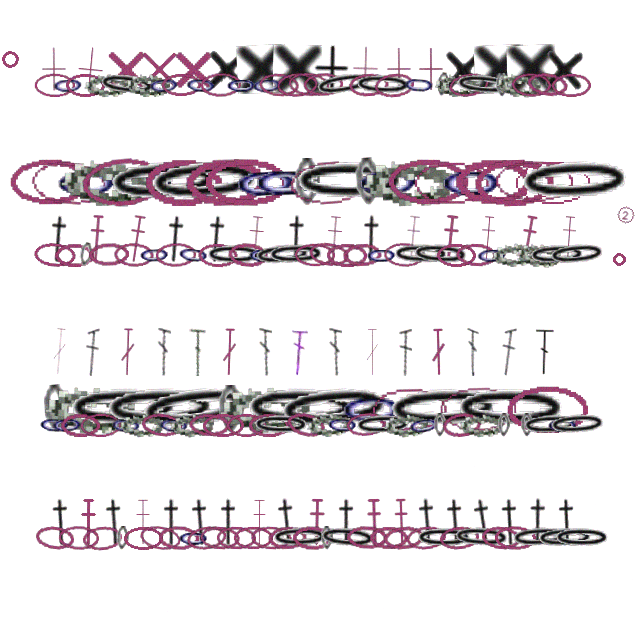chain: (134, 378, 258, 440), (273, 380, 396, 438), (144, 154, 266, 210), (103, 155, 225, 209), (514, 155, 636, 208), (383, 383, 504, 435), (100, 383, 221, 434), (64, 384, 184, 433), (241, 384, 361, 433), (290, 158, 410, 206), (451, 385, 571, 433), (80, 154, 167, 209), (285, 155, 370, 209), (26, 155, 110, 209), (61, 157, 151, 207), (363, 157, 453, 207), (45, 384, 135, 434), (220, 384, 310, 434), (473, 157, 556, 207), (204, 157, 288, 206), (492, 157, 575, 206), (184, 157, 266, 206), (387, 158, 470, 206), (368, 384, 449, 433), (437, 384, 518, 433), (512, 158, 594, 206), (506, 385, 588, 433), (9, 158, 90, 206), (410, 158, 491, 206), (144, 158, 224, 206), (454, 158, 534, 206), (231, 156, 301, 208), (354, 156, 423, 207), (53, 157, 121, 207), (338, 384, 406, 433), (252, 157, 319, 206), (111, 158, 178, 206), (438, 158, 505, 206), (312, 68, 375, 101), (96, 70, 158, 100), (546, 240, 608, 269), (453, 71, 514, 99), (252, 241, 313, 269), (317, 524, 378, 552), (410, 241, 471, 268), (547, 411, 608, 438), (451, 524, 512, 551), (509, 524, 570, 551), (520, 412, 581, 438), (353, 72, 413, 98), (527, 242, 587, 268), (353, 412, 413, 438), (535, 525, 595, 551), (266, 242, 326, 267), (391, 242, 451, 267), (270, 525, 330, 550), (204, 243, 264, 267), (251, 413, 311, 437), (414, 526, 474, 550), (552, 526, 612, 550), (284, 409, 328, 441), (354, 157, 382, 206), (42, 384, 70, 433), (491, 240, 537, 269), (306, 410, 352, 439), (447, 70, 491, 100), (138, 523, 182, 553), (185, 523, 228, 553), (169, 411, 215, 439), (383, 411, 429, 439), (525, 70, 569, 99), (307, 240, 351, 269), (218, 385, 244, 433), (441, 410, 483, 439), (373, 71, 416, 99), (140, 411, 183, 439), (81, 524, 124, 552), (382, 524, 425, 552), (438, 524, 481, 552), (295, 158, 320, 206), (34, 524, 76, 552), (405, 524, 447, 552), (480, 524, 522, 552), (84, 72, 129, 98), (496, 72, 541, 98), (516, 242, 561, 268), (119, 412, 164, 438), (459, 412, 504, 438), (287, 71, 330, 98), (33, 241, 76, 268), (276, 71, 318, 98), (345, 411, 387, 438), (227, 241, 268, 268), (258, 72, 300, 98), (348, 72, 390, 98), (197, 242, 239, 268), (455, 242, 497, 268), (188, 412, 230, 438), (250, 525, 292, 551), (383, 242, 426, 267), (342, 242, 383, 268), (199, 525, 240, 551), (267, 525, 308, 551), (126, 73, 170, 97), (435, 73, 479, 97), (155, 242, 197, 267), (494, 525, 536, 550), (200, 72, 241, 97), (303, 72, 344, 97), (88, 242, 129, 267), (113, 242, 154, 267), (58, 525, 99, 550), (158, 525, 199, 550), (346, 525, 387, 550), (202, 413, 244, 437), (406, 411, 442, 439), (511, 72, 551, 97), (292, 525, 332, 550), (34, 73, 75, 97), (65, 73, 106, 97), (161, 73, 202, 97), (551, 73, 592, 97), (294, 243, 335, 267), (326, 243, 367, 267), (436, 243, 477, 267), (80, 413, 121, 437), (248, 413, 289, 437), (123, 526, 164, 550), (54, 243, 94, 267), (60, 413, 100, 437), (226, 413, 266, 437), (216, 526, 256, 550), (233, 526, 273, 550), (369, 526, 409, 550), (176, 241, 211, 268), (51, 72, 85, 98), (147, 72, 181, 98), (184, 72, 218, 98), (250, 72, 284, 98), (475, 242, 509, 268), (109, 412, 143, 438), (157, 412, 191, 438), (402, 72, 436, 97), (50, 412, 84, 437), (138, 242, 171, 267), (38, 412, 71, 437), (326, 412, 359, 437), (225, 73, 258, 97), (247, 243, 280, 267), (365, 243, 398, 267), (546, 413, 579, 437), (177, 526, 210, 550), (78, 242, 94, 267), (436, 72, 450, 97), (116, 526, 129, 550), (496, 73, 508, 97), (434, 413, 446, 437), (498, 413, 510, 437), (521, 413, 533, 437), (321, 526, 333, 550)
double: (534, 328, 555, 376), (50, 327, 69, 376), (187, 328, 206, 376), (289, 328, 308, 376), (500, 327, 517, 376), (119, 328, 136, 376), (221, 328, 238, 376), (430, 328, 447, 376), (155, 328, 171, 376), (364, 328, 380, 376), (85, 328, 100, 376), (258, 328, 272, 376), (328, 328, 342, 376), (399, 328, 412, 376), (466, 328, 479, 376)
half_double: (42, 214, 75, 264), (159, 214, 192, 264), (200, 214, 233, 264), (467, 497, 500, 547), (281, 214, 312, 263), (356, 214, 387, 263), (272, 497, 302, 546), (523, 497, 553, 546), (413, 497, 442, 546), (100, 498, 129, 546), (157, 498, 186, 546), (186, 498, 215, 546), (214, 498, 243, 546), (332, 498, 361, 546), (441, 498, 470, 546), (515, 214, 542, 264), (47, 498, 75, 546), (496, 498, 524, 546), (553, 498, 581, 546), (124, 214, 149, 264), (244, 214, 267, 263), (401, 214, 424, 263), (439, 214, 462, 263), (86, 214, 108, 263), (323, 214, 345, 263), (477, 214, 498, 263), (558, 214, 579, 263), (307, 498, 327, 546), (364, 498, 384, 546), (79, 498, 98, 546), (392, 498, 411, 546), (134, 498, 152, 546), (250, 498, 268, 546)
noise: (615, 204, 636, 225), (0, 49, 21, 70), (611, 251, 627, 267)
single: (64, 43, 116, 95), (236, 44, 287, 94), (506, 44, 557, 94), (474, 44, 524, 94), (341, 44, 390, 93), (541, 43, 588, 94), (273, 45, 322, 93), (30, 45, 78, 93), (102, 45, 150, 93), (135, 45, 183, 93), (169, 45, 217, 93), (375, 45, 423, 93), (407, 45, 455, 93), (205, 44, 250, 93), (442, 45, 486, 93), (312, 45, 350, 93)
